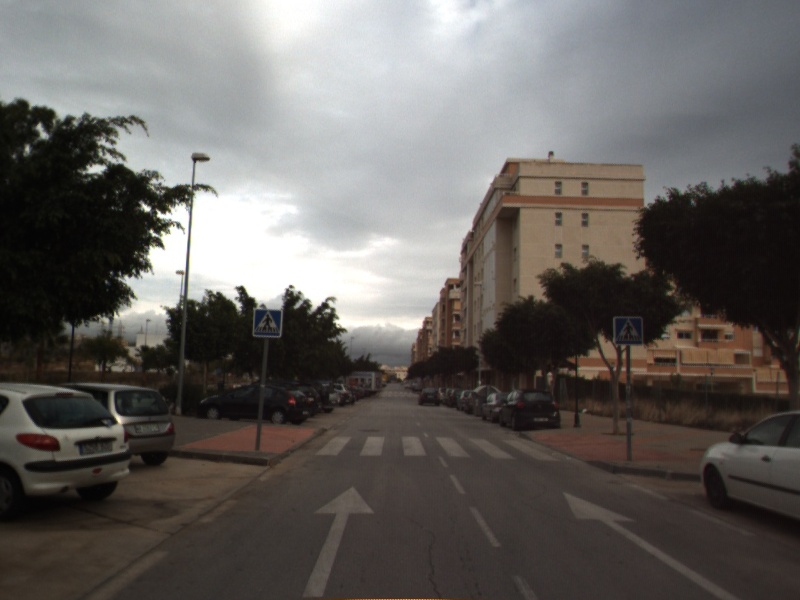STRAIGHT: (562, 490, 743, 600), (300, 484, 377, 598)
